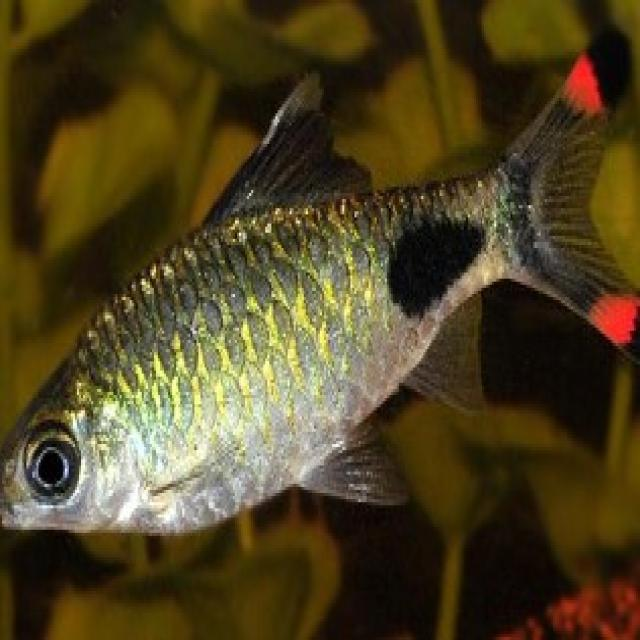Black-Spotted-Barb: (0, 40, 619, 612)
